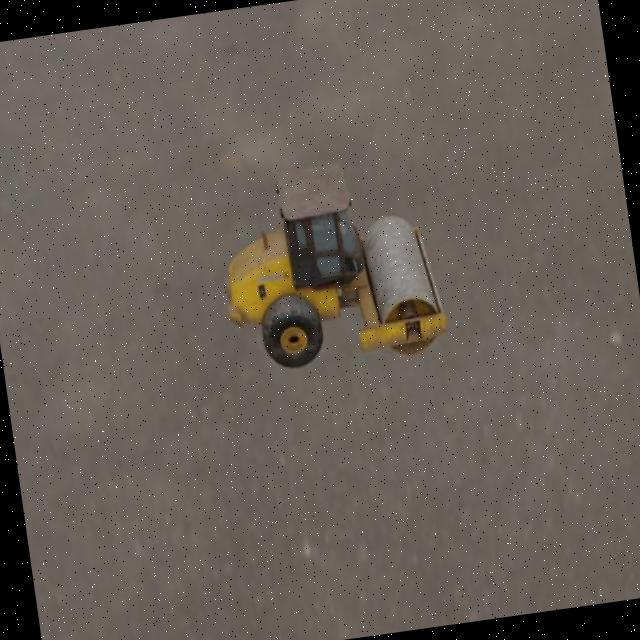Roller: (210, 150, 450, 380)
